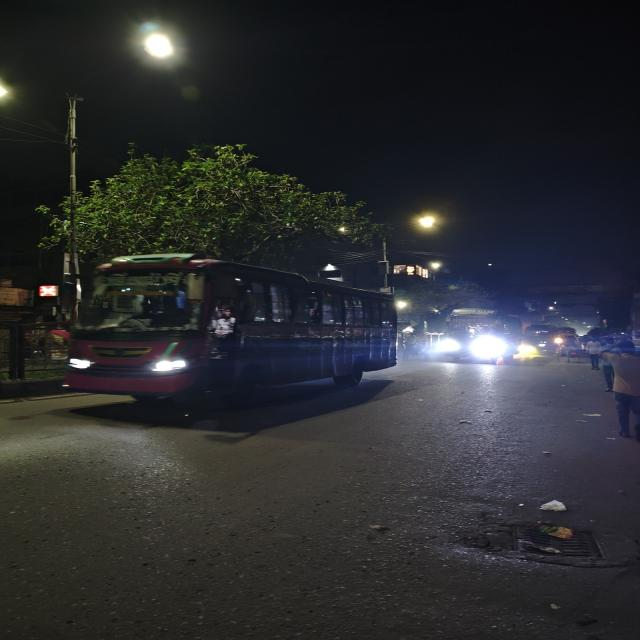bus: (60, 245, 401, 407), (436, 305, 509, 365), (522, 322, 564, 354)
pedestrian: (598, 336, 640, 444), (555, 328, 580, 364), (585, 336, 604, 371)
